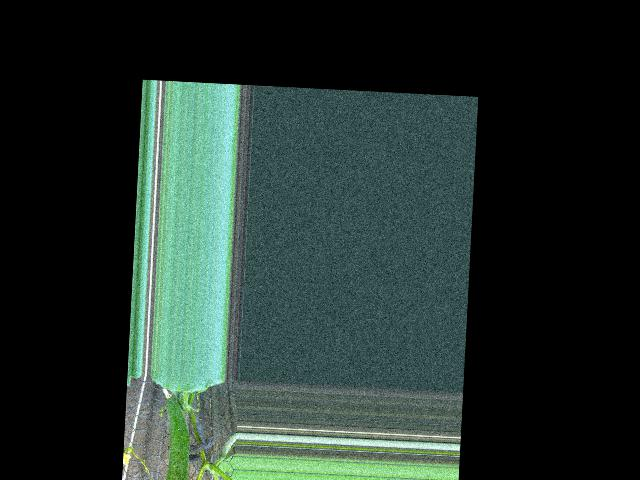cucumber: (161, 398, 192, 480)
